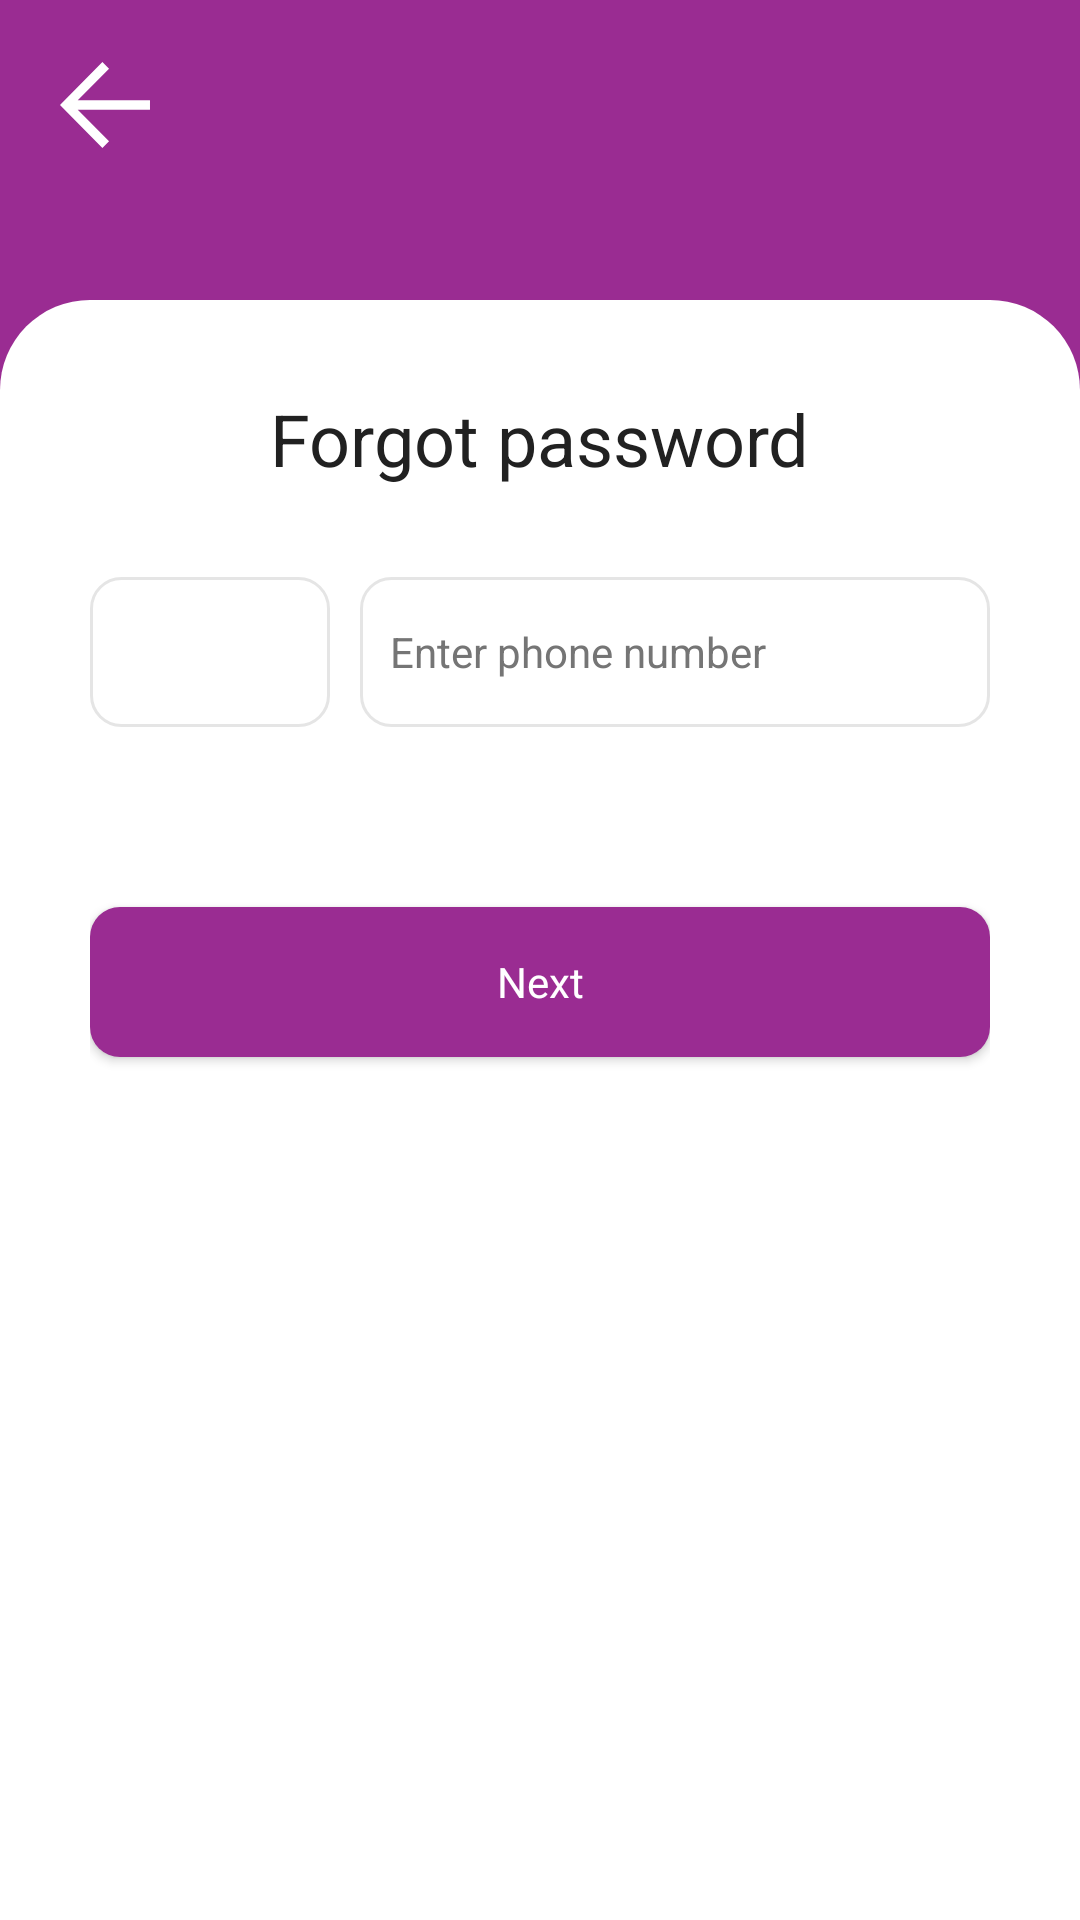

Where to tap for icons on this 1080px x 1920px app screen, as point (x, y):
back: point (105, 105)
